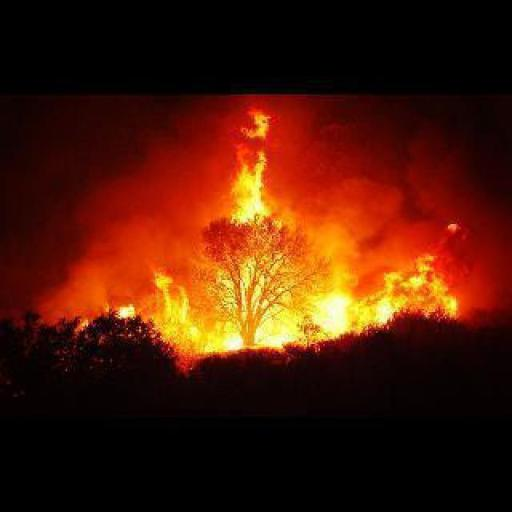smoke: (108, 107, 466, 349)
